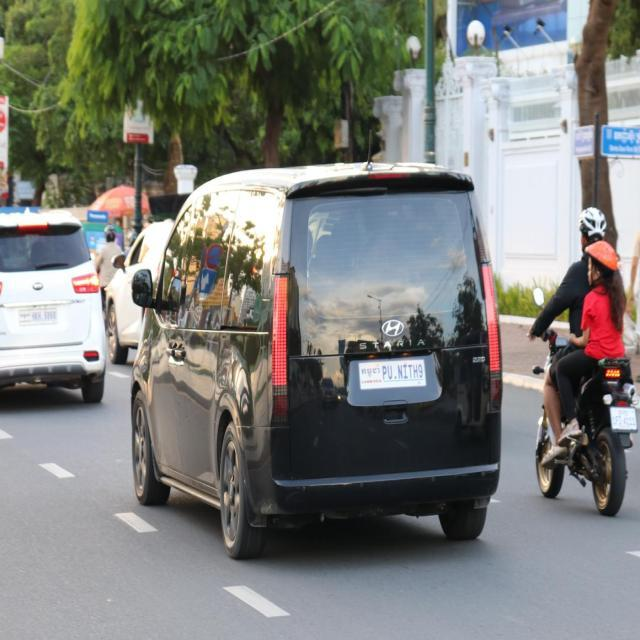Cambodia: (361, 366, 381, 378)
